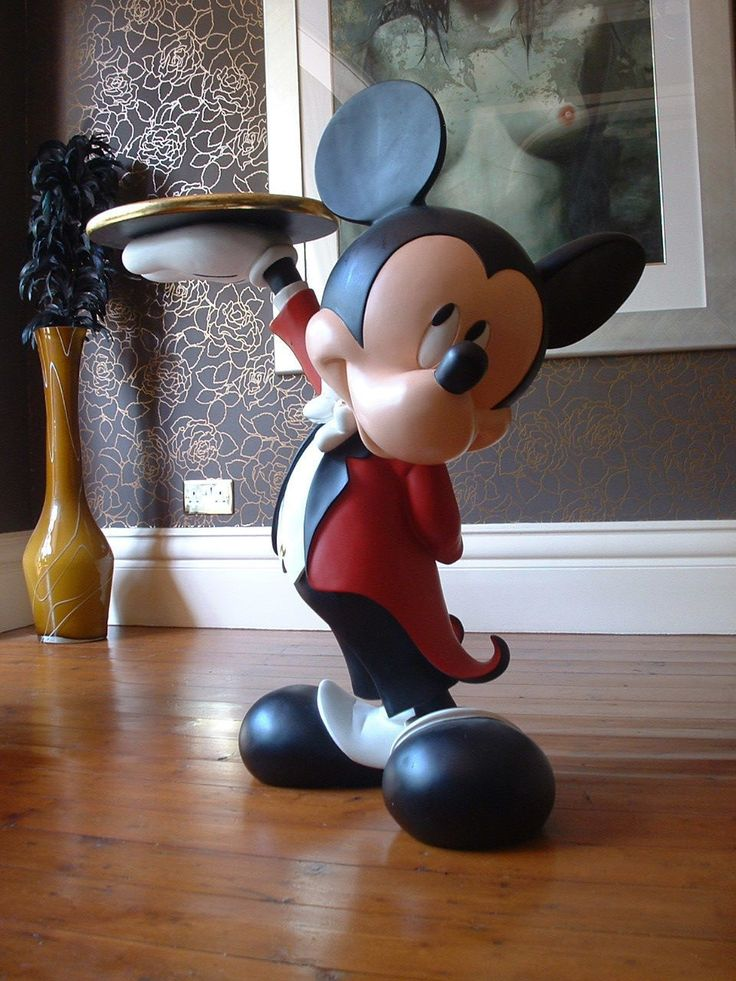Mickey: (292, 69, 651, 470)
